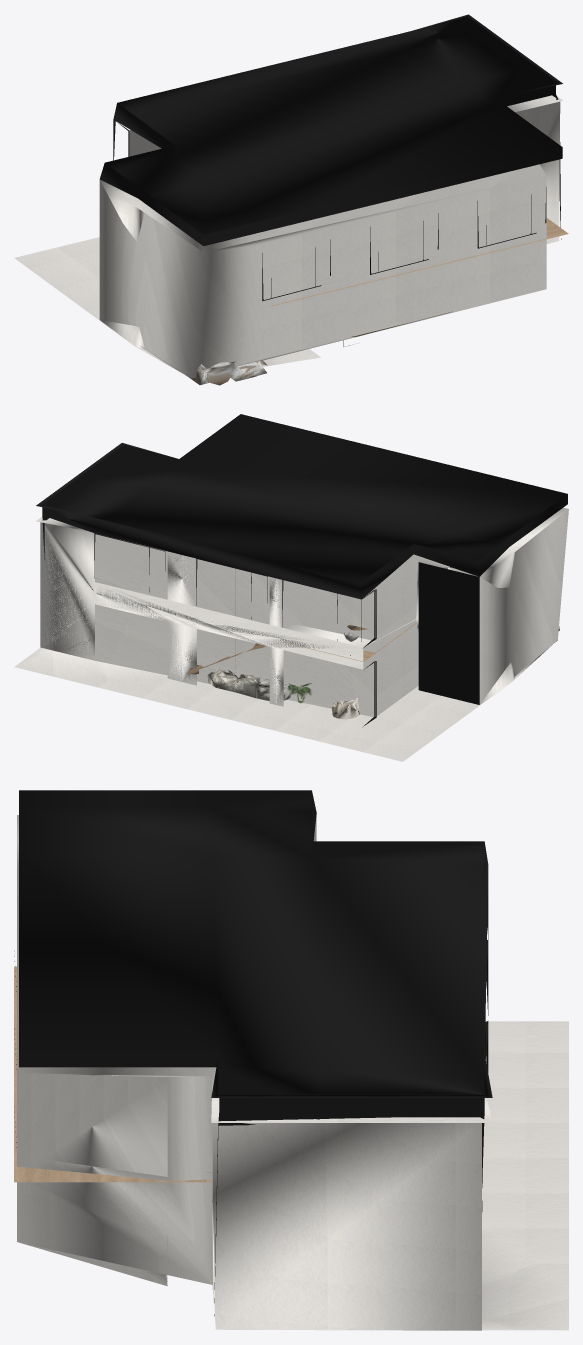
Rendered from mini_office.glb.
3 views of the same model, one above another, from view 1: azimuth 30°, elevation 25°; view 2: azimuth 150°, elevation 25°; view 3: azimuth 270°, elevation 25° (orthographic). The views are drawn at different scales.
Visible parts, largest first — view 1: body; view 2: body; view 3: body.
Part boxes in pixels (bbox=[...]): body: bbox=[14, 14, 568, 385]; body: bbox=[14, 414, 568, 761]; body: bbox=[14, 790, 568, 1330].
Size of the model in its own units: 16 by 5.77 by 12.07.
12 materials, 11 textured.
